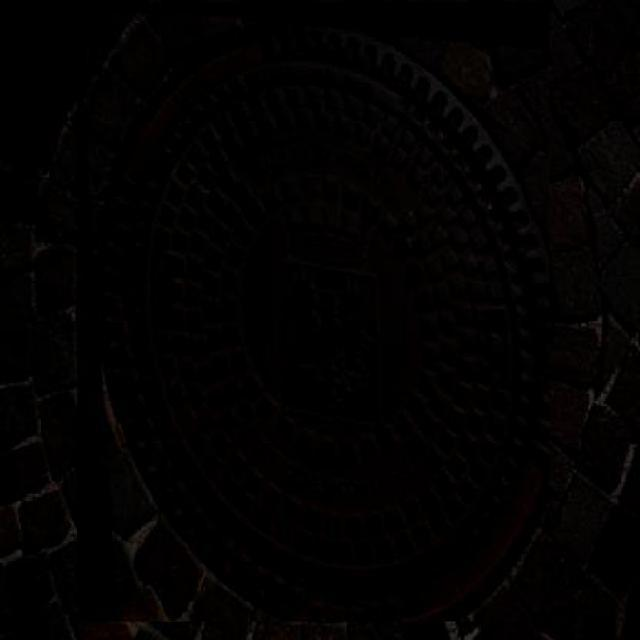Manhole: (77, 1, 550, 622)
